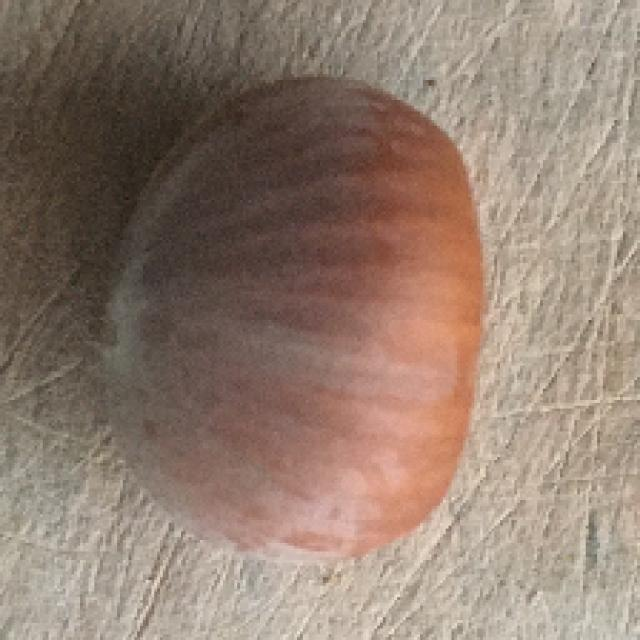qualityHazelnut: (89, 72, 493, 568)
